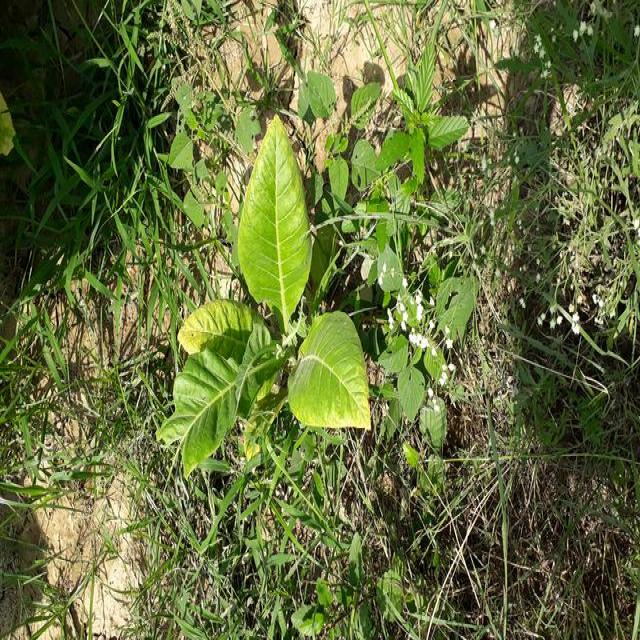crop: (167, 131, 370, 465)
